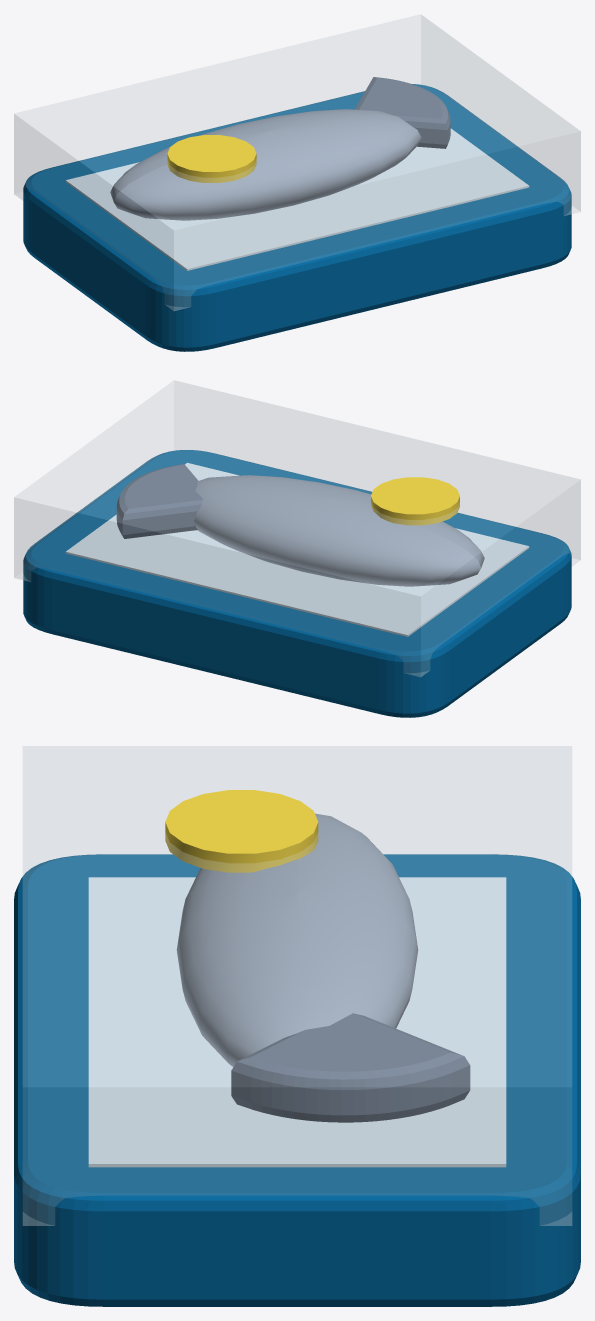
File: fish-tray.glb
3 renders of one model, top to bottom at view 1: azimuth 30°, elevation 25°; view 2: azimuth 150°, elevation 25°; view 3: azimuth 270°, elevation 25°, orthographic. The views are drawn at different scales.
Visible parts, largest first — view 1: Clear_Film, Seafood_Tray, Ice_Bed, Fish_Body, Fish_Tail_Fin, Lemon_Slice; view 2: Clear_Film, Seafood_Tray, Fish_Body, Ice_Bed, Fish_Tail_Fin, Lemon_Slice; view 3: Clear_Film, Seafood_Tray, Ice_Bed, Fish_Body, Fish_Tail_Fin, Lemon_Slice.
Boxes of the visible parts, x1,y1,x2,y2 form: Clear_Film: (14, 14, 580, 310); Seafood_Tray: (23, 84, 571, 351); Ice_Bed: (65, 128, 529, 270); Fish_Body: (110, 109, 421, 220); Fish_Tail_Fin: (355, 77, 450, 148); Lemon_Slice: (167, 135, 256, 182); Clear_Film: (14, 380, 580, 676); Seafood_Tray: (23, 450, 571, 717); Fish_Body: (194, 475, 484, 586); Ice_Bed: (65, 462, 529, 636); Fish_Tail_Fin: (116, 464, 203, 538); Lemon_Slice: (371, 477, 459, 525); Clear_Film: (23, 746, 571, 1225); Seafood_Tray: (14, 854, 580, 1306); Ice_Bed: (88, 877, 506, 1167); Fish_Body: (176, 813, 418, 1066); Fish_Tail_Fin: (231, 1013, 470, 1122); Lemon_Slice: (165, 790, 318, 872).
Bounding box in the file's own units: 0.238 × 0.073 × 0.163.
